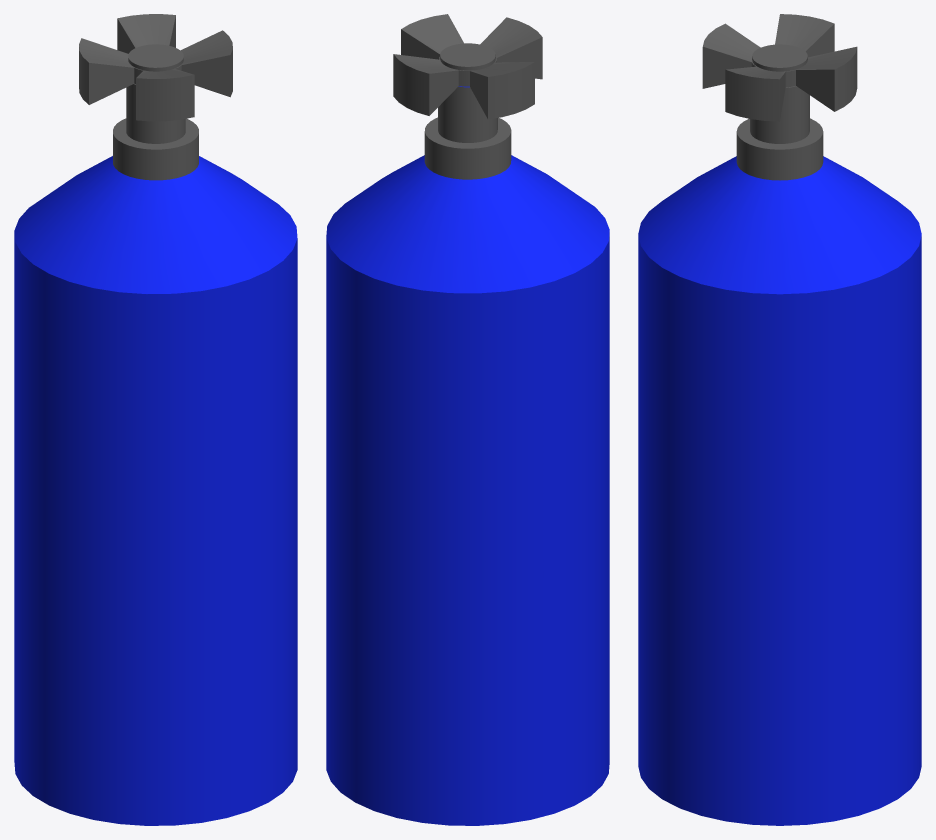
The model's file is Nitro.fbx.
3 renders of one model, left to right at view 1: azimuth 30°, elevation 25°; view 2: azimuth 150°, elevation 25°; view 3: azimuth 270°, elevation 25°, orthographic.
Parts seen in each view (by area): view 1: Cylinder; view 2: Cylinder; view 3: Cylinder.
Boxes of the visible parts, x1,y1,x2,y2 form: Cylinder: [14, 14, 297, 825]; Cylinder: [326, 14, 609, 825]; Cylinder: [638, 14, 921, 825].
Bounding box in the file's own units: 200 × 560 × 200.
